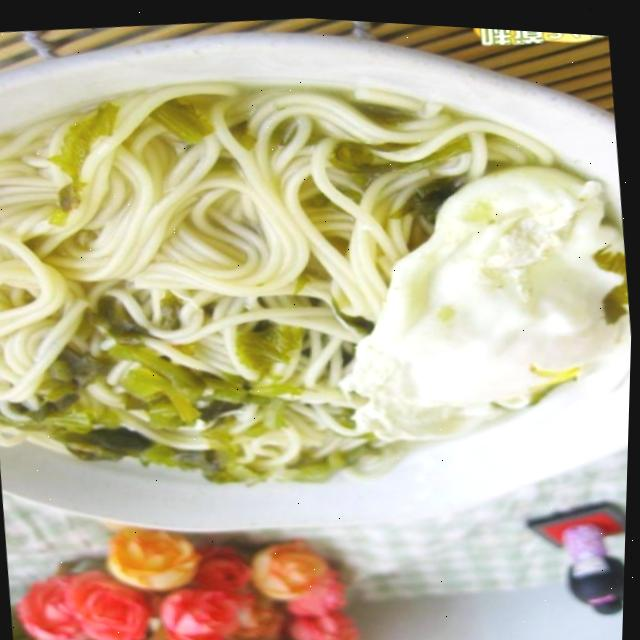面条主食: (0, 22, 628, 583)
